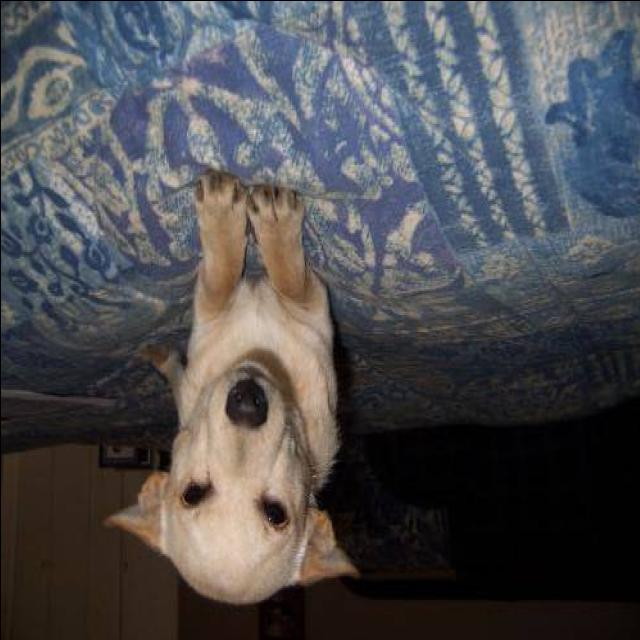dog: (109, 166, 368, 610)
